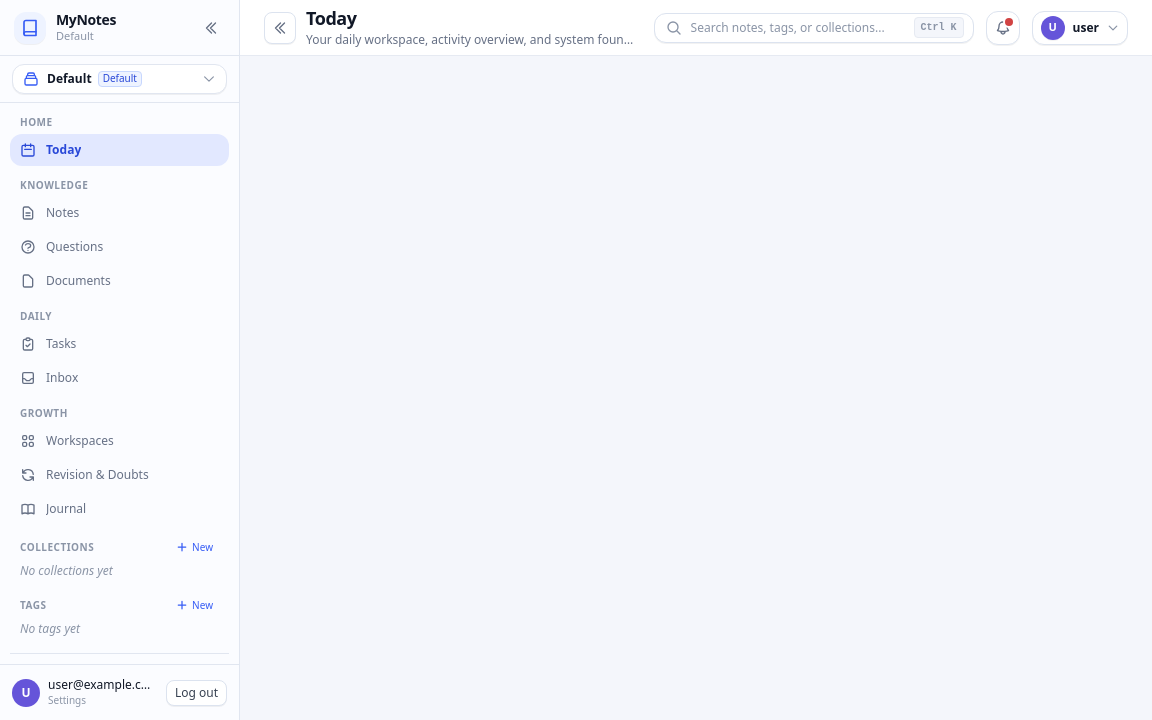
Test: Workspaces Feature Frontend Test Suite › 3. Manage Workspaces Modal › displays error when creating duplicate workspace name (409)
The image size is (1152, 720).
Click the button with aria-label "switch workspace". click: [120, 79]
box: [12,64,227,94]
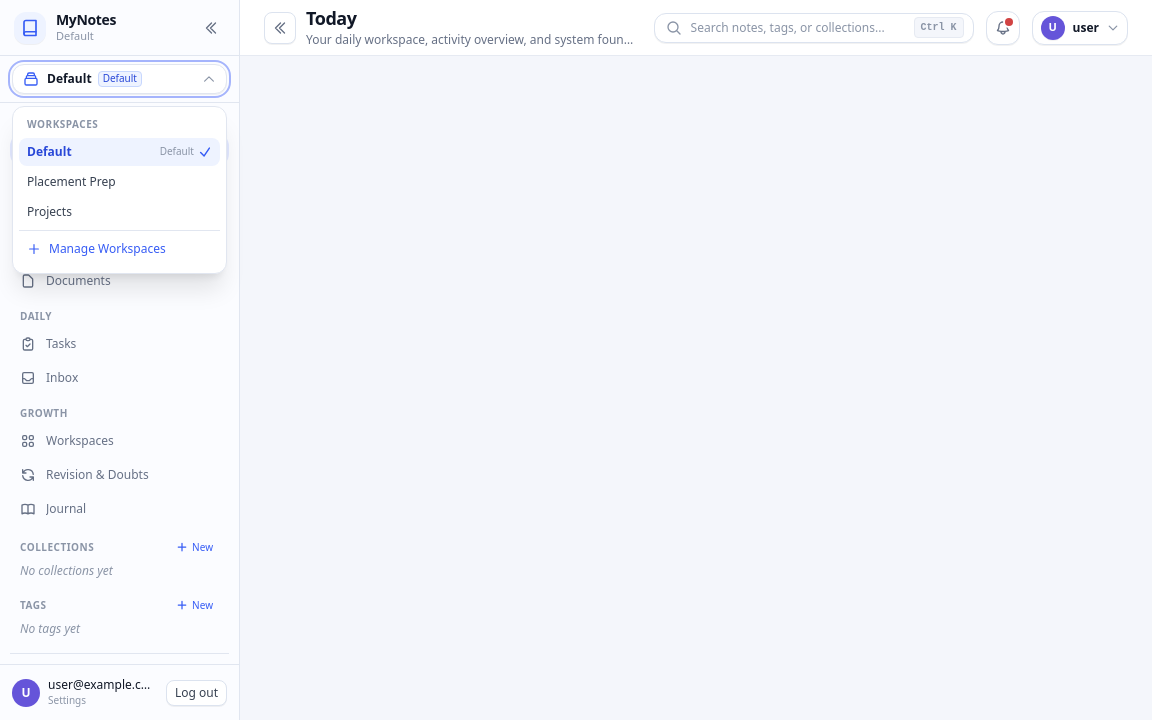
Click the button "Manage Workspaces". click: [120, 249]
box: [19,235,220,263]
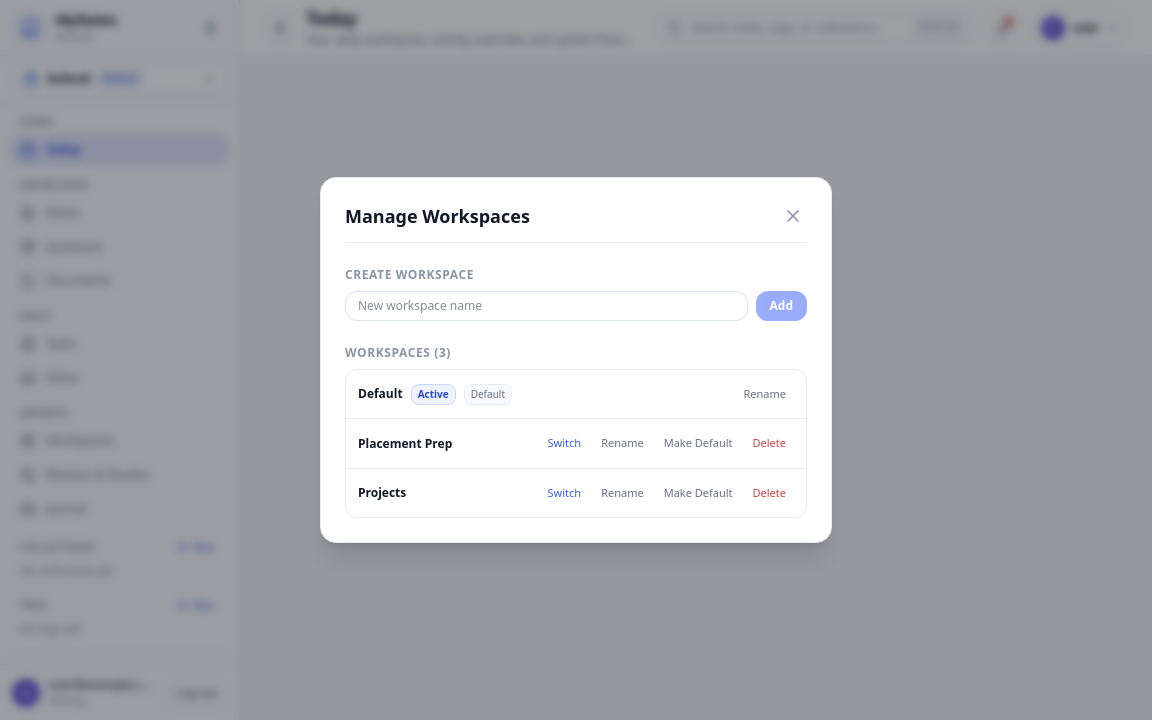
Type "Placement Prep" into the field labelled "New workspace name". click: [546, 306]
box: [345,291,748,321]
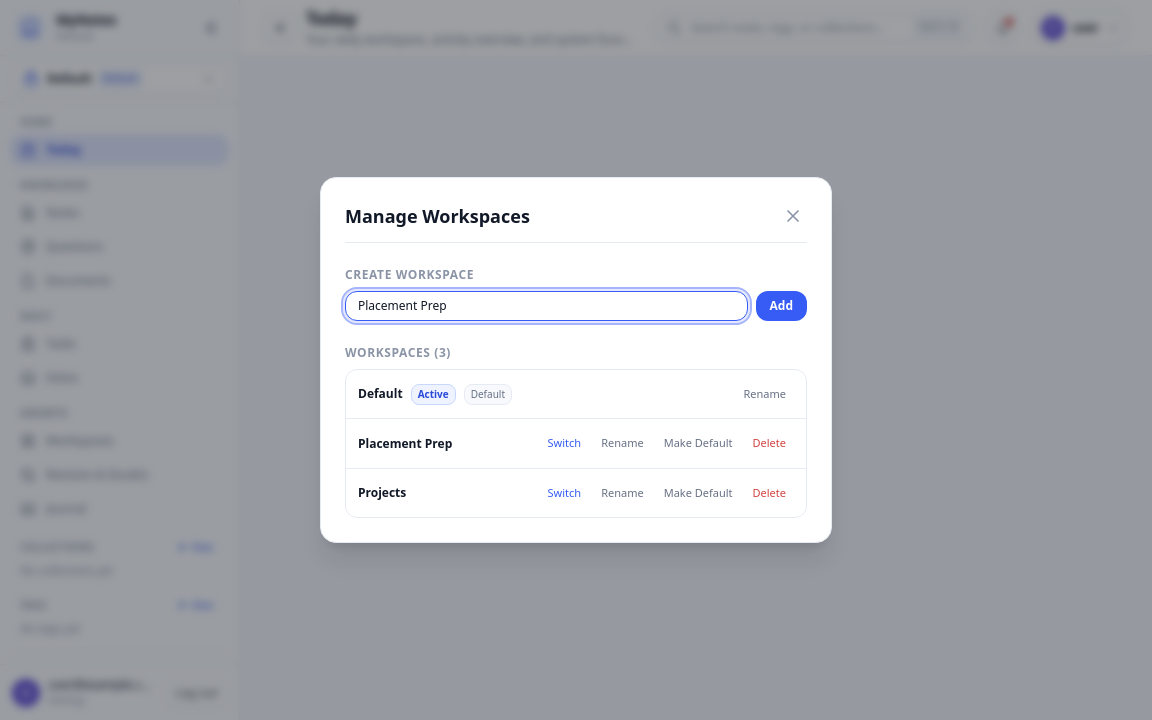
Click the button "Add". click: [781, 306]
box: [756,291,807,321]
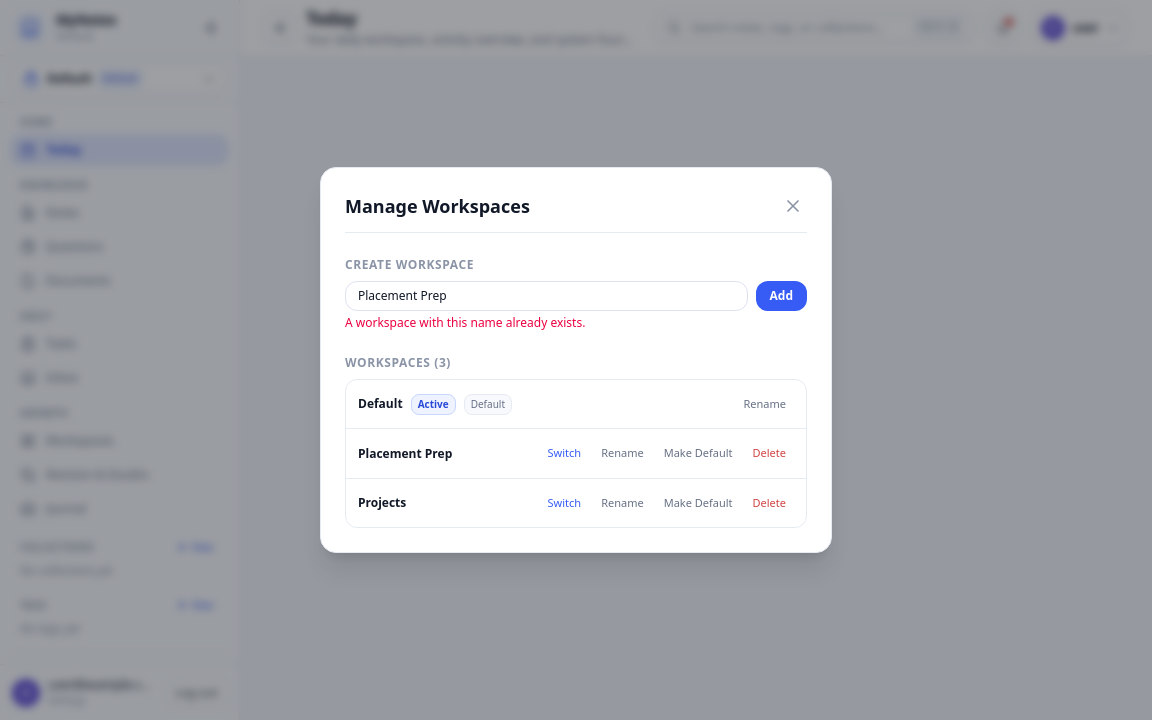
Check: the text "A workspace with this name already exists." is shown, box [345,314,585,331]
